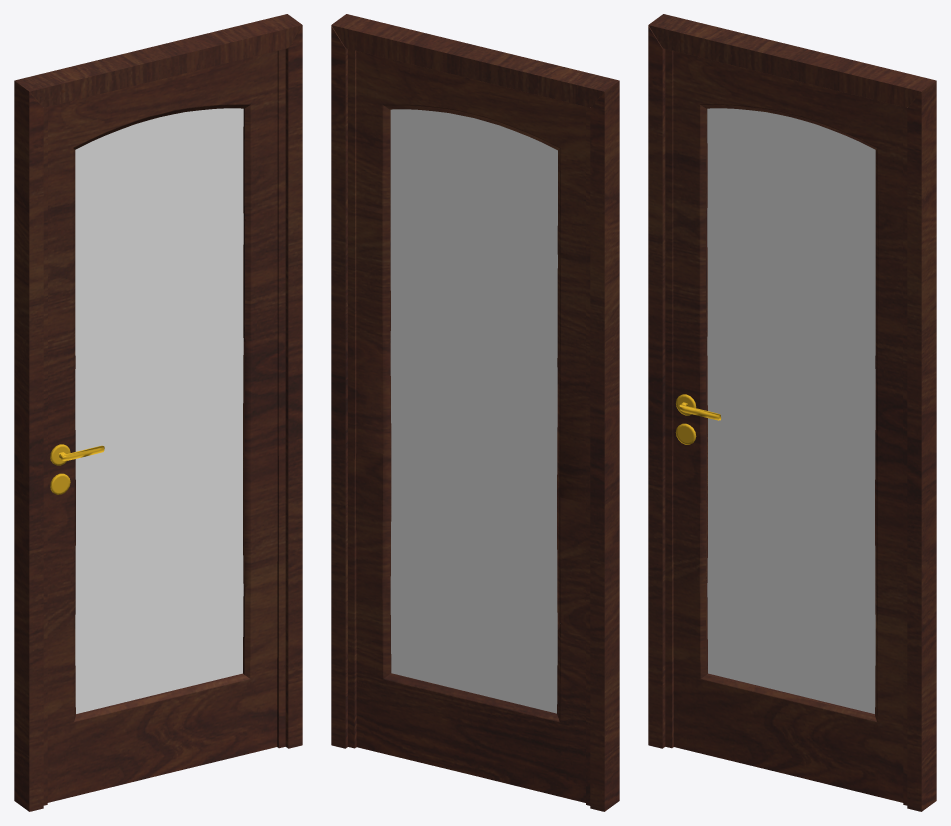
Rendered from PUERTA46_ALASKA.glb.
3 renders of one model, left to right at view 1: azimuth 30°, elevation 25°; view 2: azimuth 150°, elevation 25°; view 3: azimuth 330°, elevation 25°, orthographic.
Visible parts, largest first — view 1: CRISTAL_GRANDE, Puerta46_ALASKA, Puerta46_Marco, Puerta46_Cerradura; view 2: CRISTAL_GRANDE, Puerta46_ALASKA, Puerta46_Marco; view 3: CRISTAL_GRANDE, Puerta46_ALASKA, Puerta46_Marco, Puerta46_Cerradura.
Boxes of the visible parts, x1,y1,x2,y2 form: CRISTAL_GRANDE: [75, 108, 243, 713]; Puerta46_ALASKA: [43, 49, 285, 805]; Puerta46_Marco: [14, 14, 302, 811]; Puerta46_Cerradura: [50, 444, 104, 494]; CRISTAL_GRANDE: [390, 109, 557, 713]; Puerta46_ALASKA: [348, 49, 590, 805]; Puerta46_Marco: [331, 14, 619, 811]; CRISTAL_GRANDE: [707, 108, 875, 713]; Puerta46_ALASKA: [665, 49, 907, 805]; Puerta46_Marco: [648, 14, 936, 811]; Puerta46_Cerradura: [675, 394, 721, 444].
Bounding box in the file's own units: 769 × 1936 × 85.
5 materials, 3 textured.
